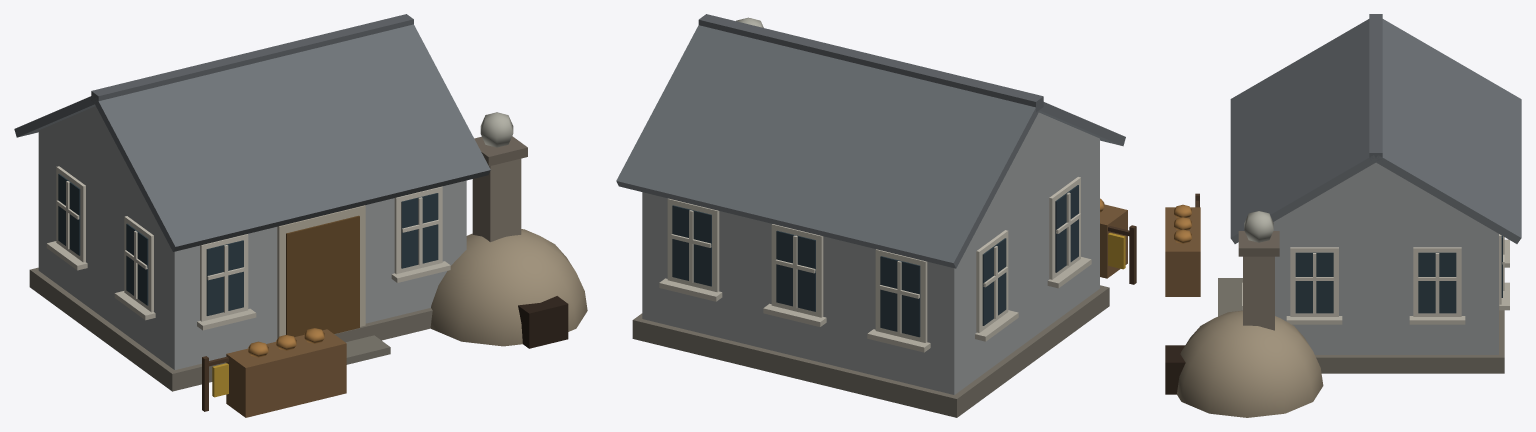
File: procedural_bakery@6.glb
The picture shows the model from 3 angles, left to right: view 1: azimuth 30°, elevation 25°; view 2: azimuth 150°, elevation 25°; view 3: azimuth 270°, elevation 25°; orthographic projection. The views are drawn at different scales.
Parts seen in each view (by area): view 1: part_0, part_4; view 2: part_0; view 3: part_0, part_4.
Part boxes in pixels (x1=…): part_0: x1=14, y1=14, x2=587, y2=417; part_4: x1=480, y1=112, x2=513, y2=147; part_0: x1=616, y1=14, x2=1136, y2=417; part_0: x1=1165, y1=14, x2=1521, y2=417; part_4: x1=1244, y1=211, x2=1273, y2=242.
Bounding box in the file's own units: 7.31 × 4.21 × 6.09.
